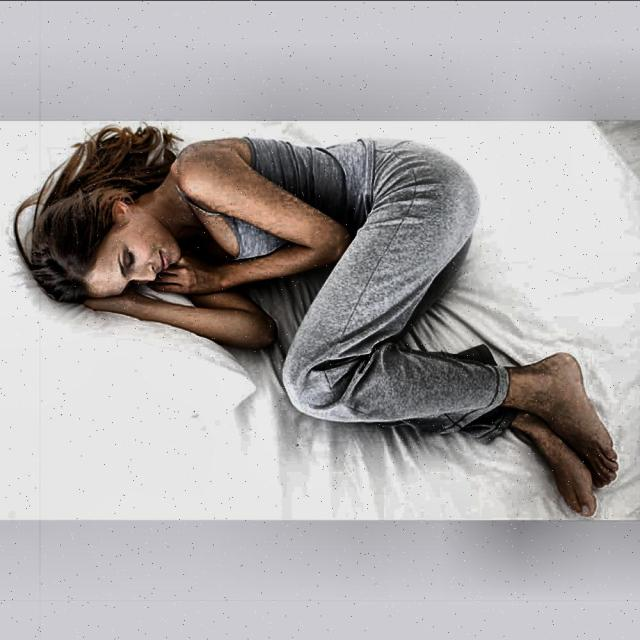Not_Supine: (15, 125, 618, 514)
